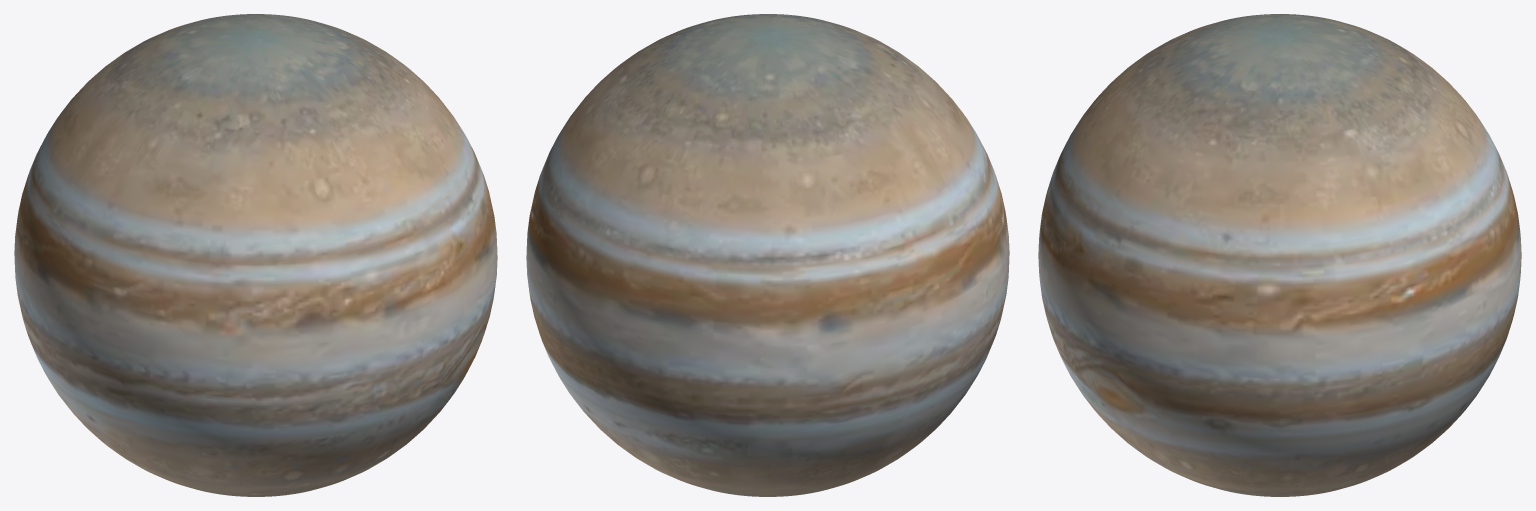
3 views of the same model, side by side, from view 1: azimuth 30°, elevation 25°; view 2: azimuth 150°, elevation 25°; view 3: azimuth 270°, elevation 25° (orthographic).
Visible parts, largest first — view 1: Mars; view 2: Mars; view 3: Mars.
Boxes of the visible parts, <box> form: Mars: <box>14,14,497,496</box>; Mars: <box>526,14,1009,496</box>; Mars: <box>1038,14,1521,496</box>.
Bounding box in the file's own units: 12.71 × 12.71 × 12.71.
Materials: 1 (1 with a texture image).
